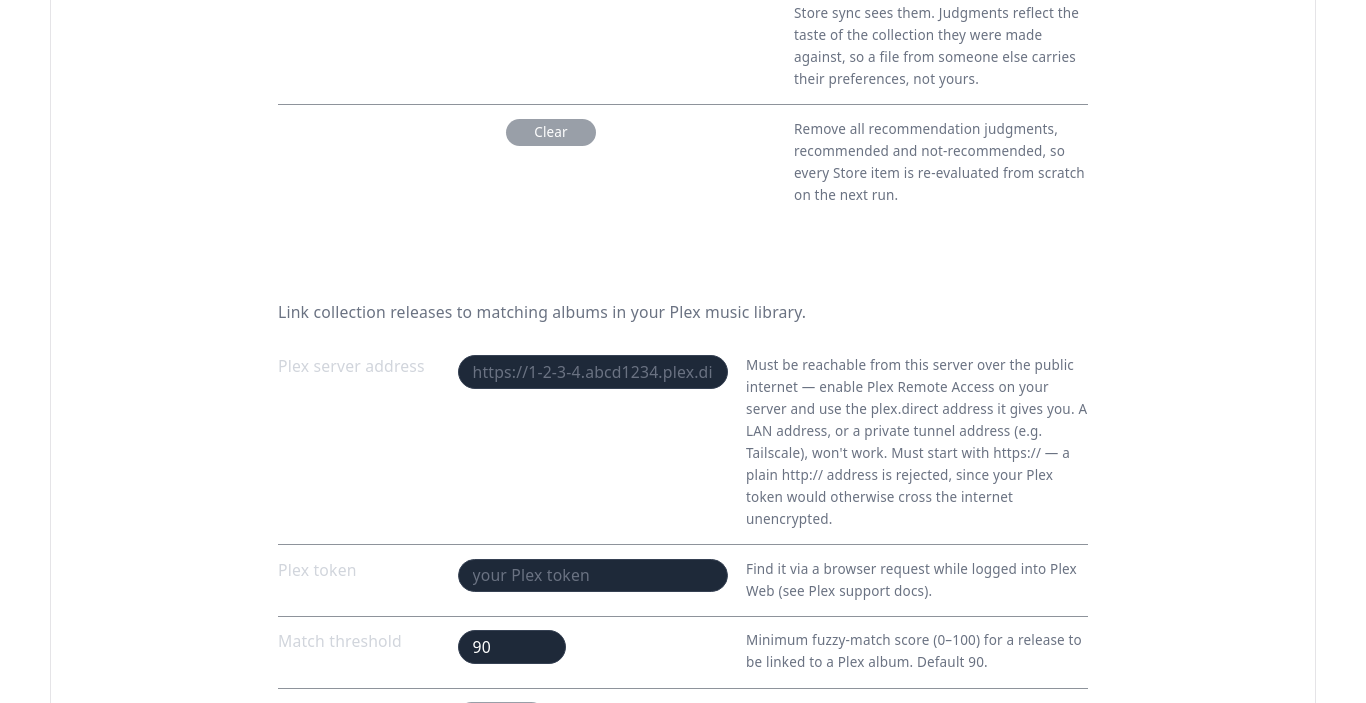
Account › clears a stale save error as soon as the user edits a field again
(page scrolled)
In the field named "Plex server address": (593, 372) [458,355,728,389], type "http://bad-address"
Wait 800 ms
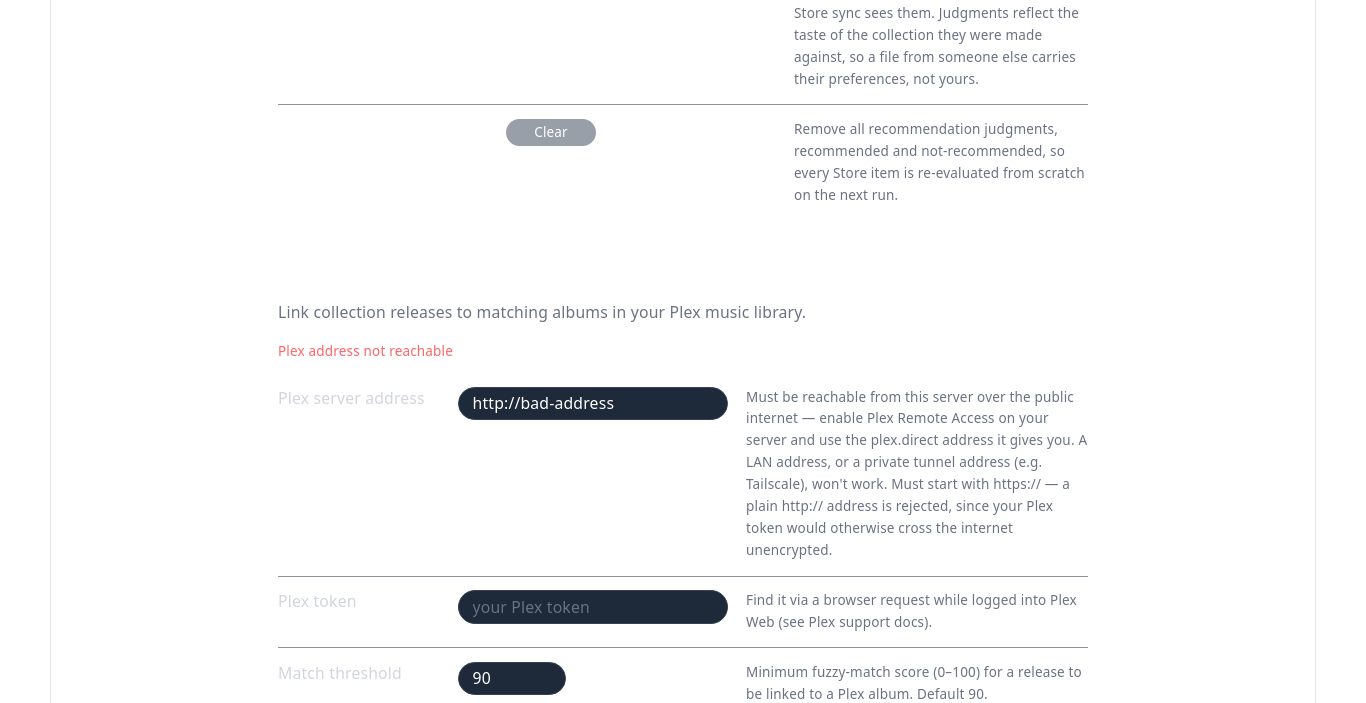
Expected: the text "Plex address not reachable" is shown, [278,342,453,360]
Replace the text in the field named "Plex server address" with "http://still-typing": (593, 403) [458,386,728,420]
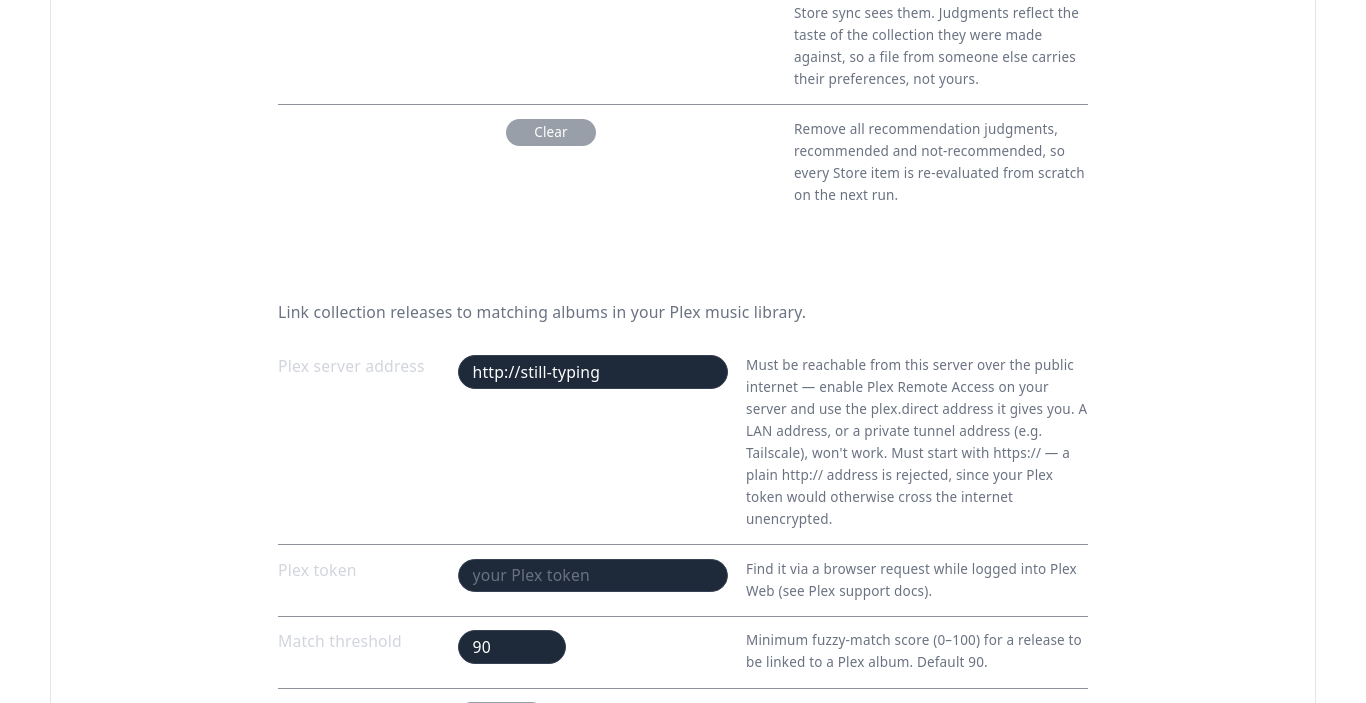
Expected: the text "Plex address not reachable" is gone
